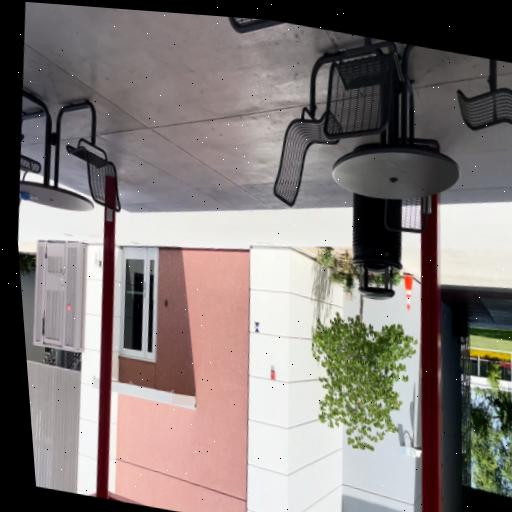target9: (253, 321, 261, 333)
